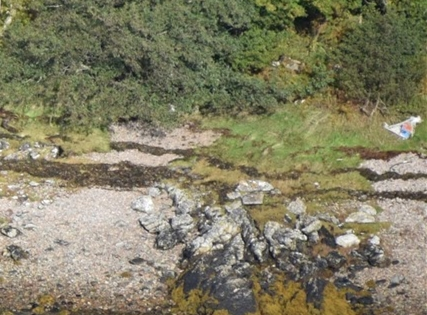white_in_green: (369, 100, 427, 149)
